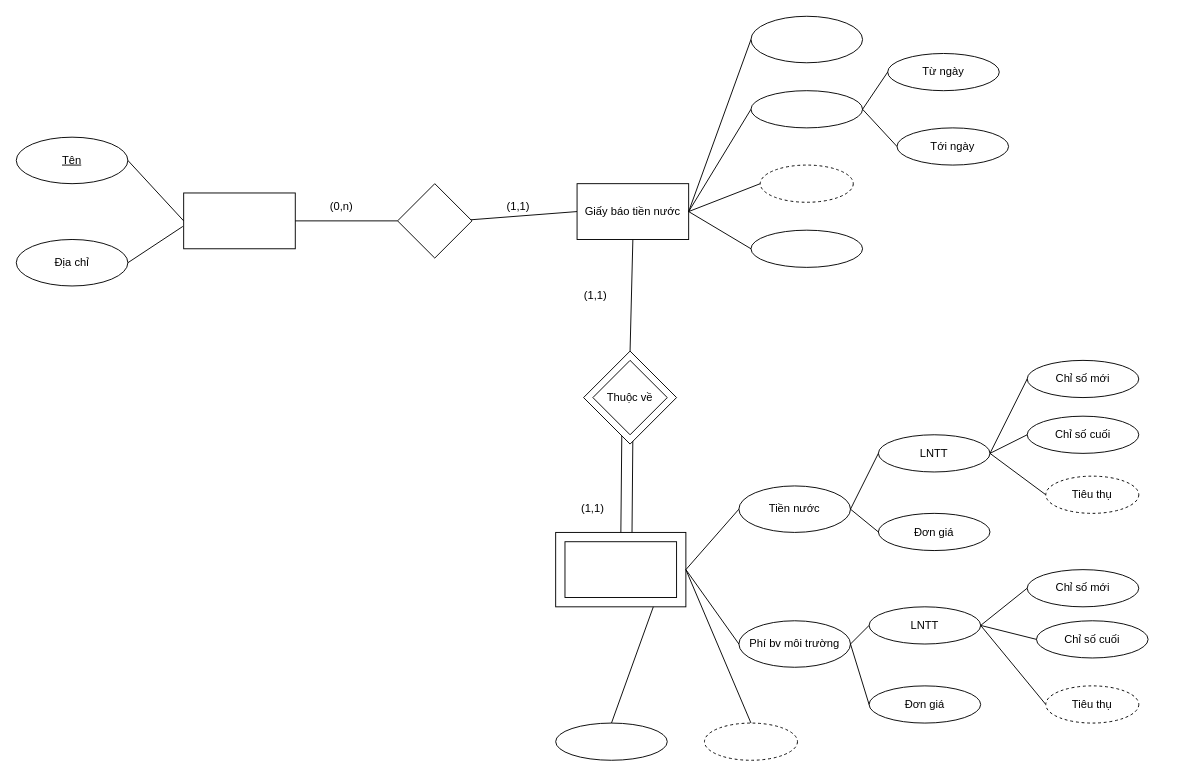
This 1195x777 diagram has some shape labels left out. Each missing label, with the box of its shape:
Chi trả: (397, 183, 472, 258)
Hoá đơn chi trả: (564, 541, 677, 598)
Khách hàng: (183, 192, 295, 249)
Kỳ: (750, 15, 863, 63)
Thanh toán trước ngày: (750, 229, 863, 267)
Thuế GTGT: (555, 722, 667, 760)
Thành tiền: (704, 722, 797, 760)
Thời gian: (750, 90, 863, 128)
Tổng cộng: (759, 164, 853, 202)
